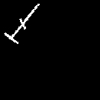double_crochet: (5, 4, 39, 43)
